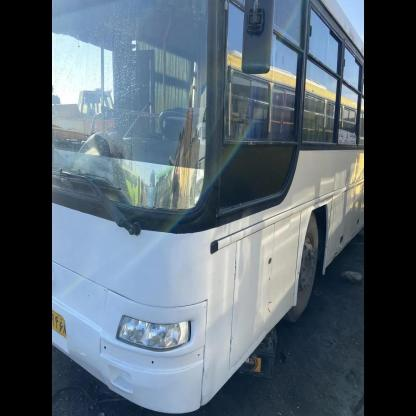Bus: (48, 0, 370, 415)
